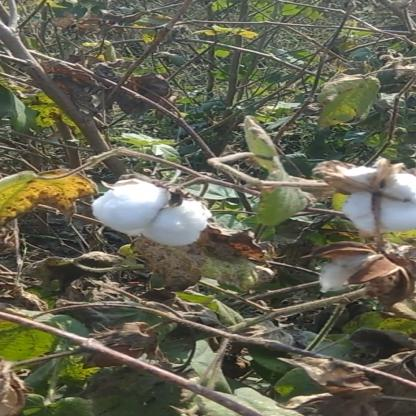cotton_ready: (67, 172, 231, 262)
